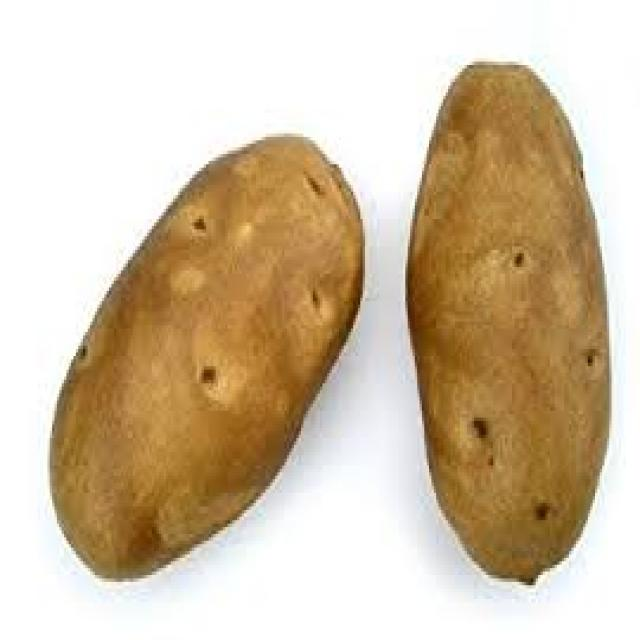organic waste: (47, 130, 363, 575), (401, 58, 609, 585)
